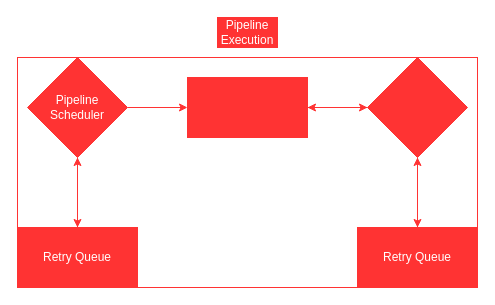
Some shapes in this 495 by 305 pixel diagram are drawn without their labels. The shapes that lost their labels are listed below. From the top down, each one's centre as x and y in pixels, then its label:
At point 247,107: "Queue".
At point 417,107: "Pipeline Executioner".
